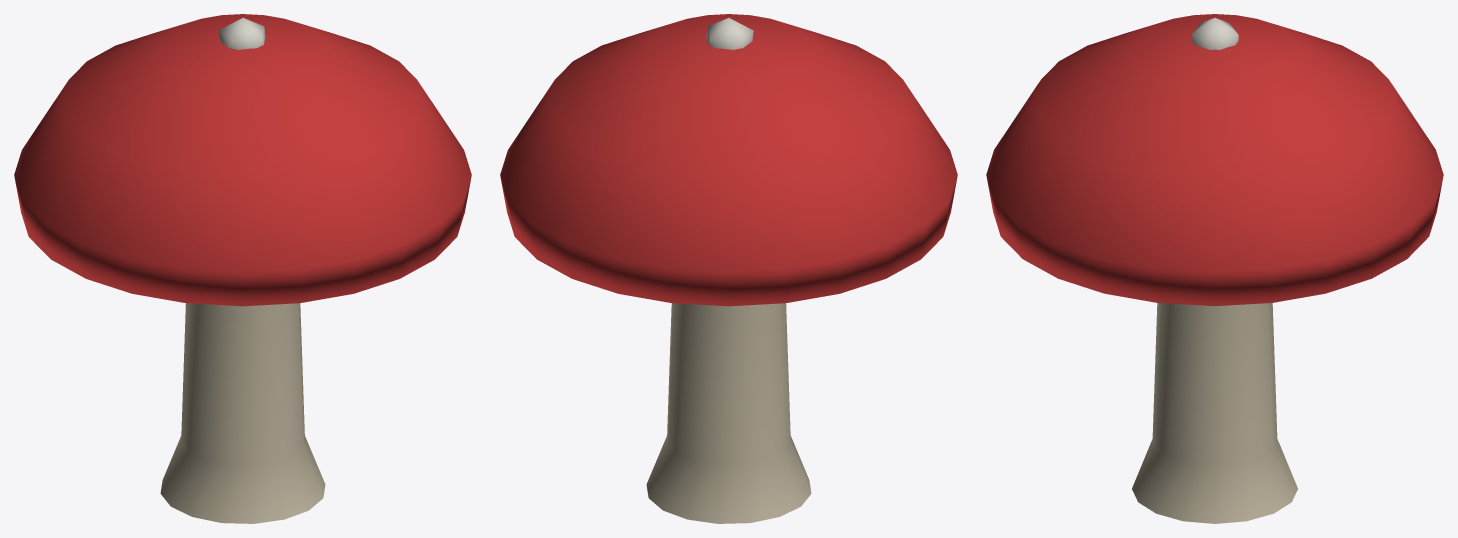
Rendered from furn_od_mushroom.glb.
3 renders of one model, left to right at view 1: azimuth 30°, elevation 25°; view 2: azimuth 150°, elevation 25°; view 3: azimuth 270°, elevation 25°, orthographic.
Visible parts, largest first — view 1: furn_od_mushroom_main; view 2: furn_od_mushroom_main; view 3: furn_od_mushroom_main.
Boxes of the visible parts, x1,y1,x2,y2 form: furn_od_mushroom_main: (14, 14, 471, 523); furn_od_mushroom_main: (500, 14, 957, 523); furn_od_mushroom_main: (986, 14, 1443, 523).
Size of the model in its own units: 0.66 by 0.75 by 0.66.
